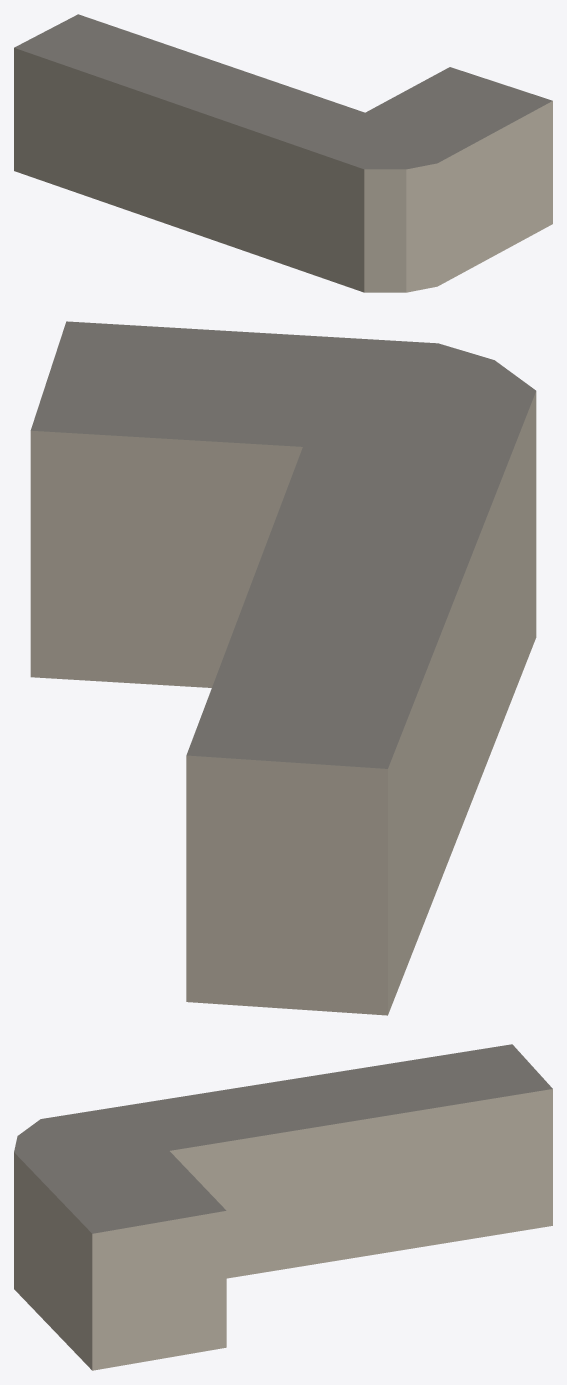
3 renders of one model, top to bottom at view 1: azimuth 30°, elevation 25°; view 2: azimuth 150°, elevation 25°; view 3: azimuth 270°, elevation 25°, orthographic. The views are drawn at different scales.
Parts seen in each view (by area): view 1: HP-w378107159; view 2: HP-w378107159; view 3: HP-w378107159.
Part boxes in pixels (bbox=[...]): HP-w378107159: bbox=[14, 14, 552, 292]; HP-w378107159: bbox=[30, 321, 536, 1015]; HP-w378107159: bbox=[14, 1044, 552, 1370].
Size of the model in its own units: 53.46 by 18 by 64.22.
